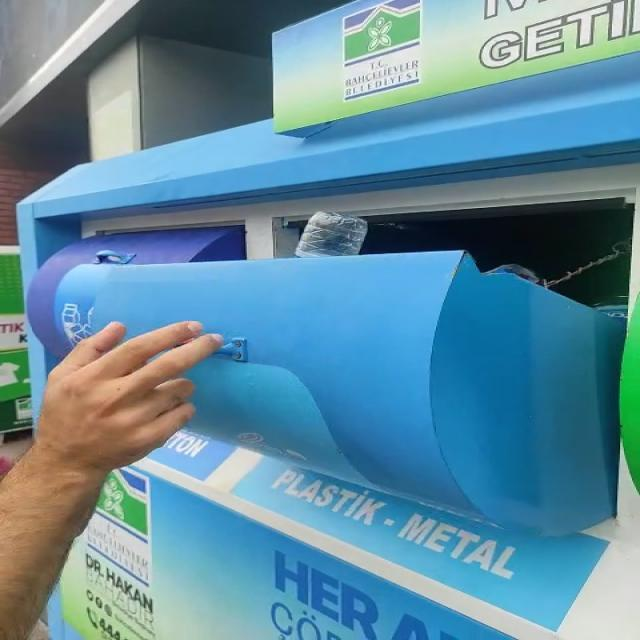Plastic: (295, 212, 368, 257)
